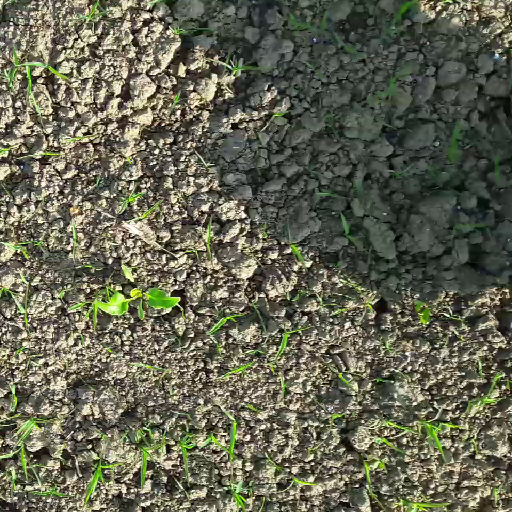sugarbeet: (96, 284, 181, 320)
weed: (2, 1, 508, 509)
